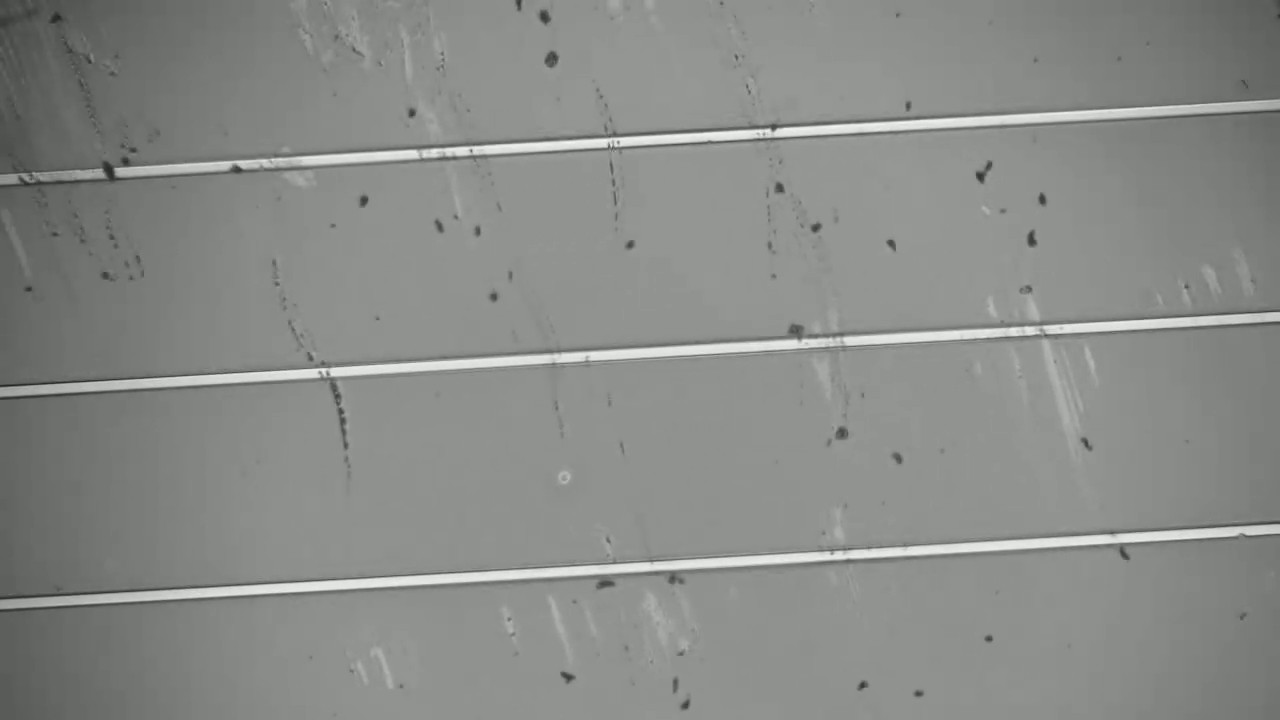scratch: (558, 46, 665, 335), (260, 255, 360, 474), (32, 1, 136, 206)
stains_enbedded: (93, 153, 125, 191), (228, 149, 251, 181)
